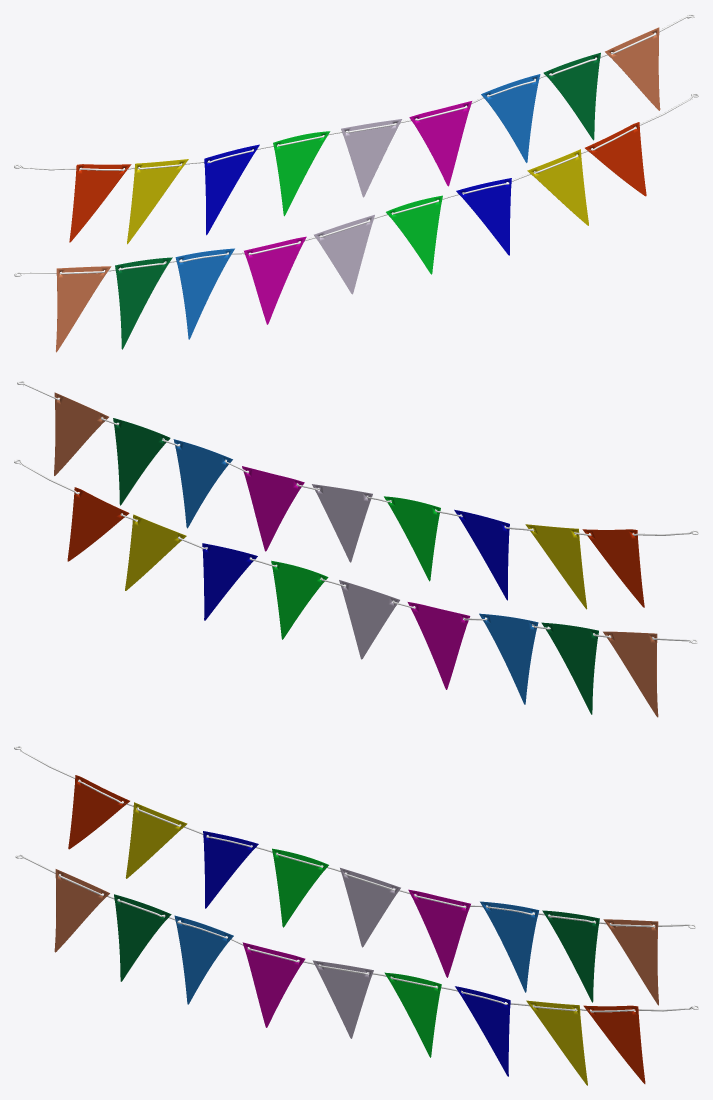
The model's file is Flags.glb.
The picture shows the model from 3 angles, top to bottom: view 1: azimuth 30°, elevation 25°; view 2: azimuth 150°, elevation 25°; view 3: azimuth 330°, elevation 25°; orthographic projection.
Parts seen in each view (by area): view 1: Flags.001_Material.009_0; view 2: Flags.001_Material.009_0; view 3: Flags.001_Material.009_0.
Part boxes in pixels (x1,y1,x2,y2): Flags.001_Material.009_0: (14, 14, 698, 352); Flags.001_Material.009_0: (14, 381, 698, 717); Flags.001_Material.009_0: (14, 746, 698, 1085).
Size of the model in its own units: 11.78 by 3.61 by 0.1381.
